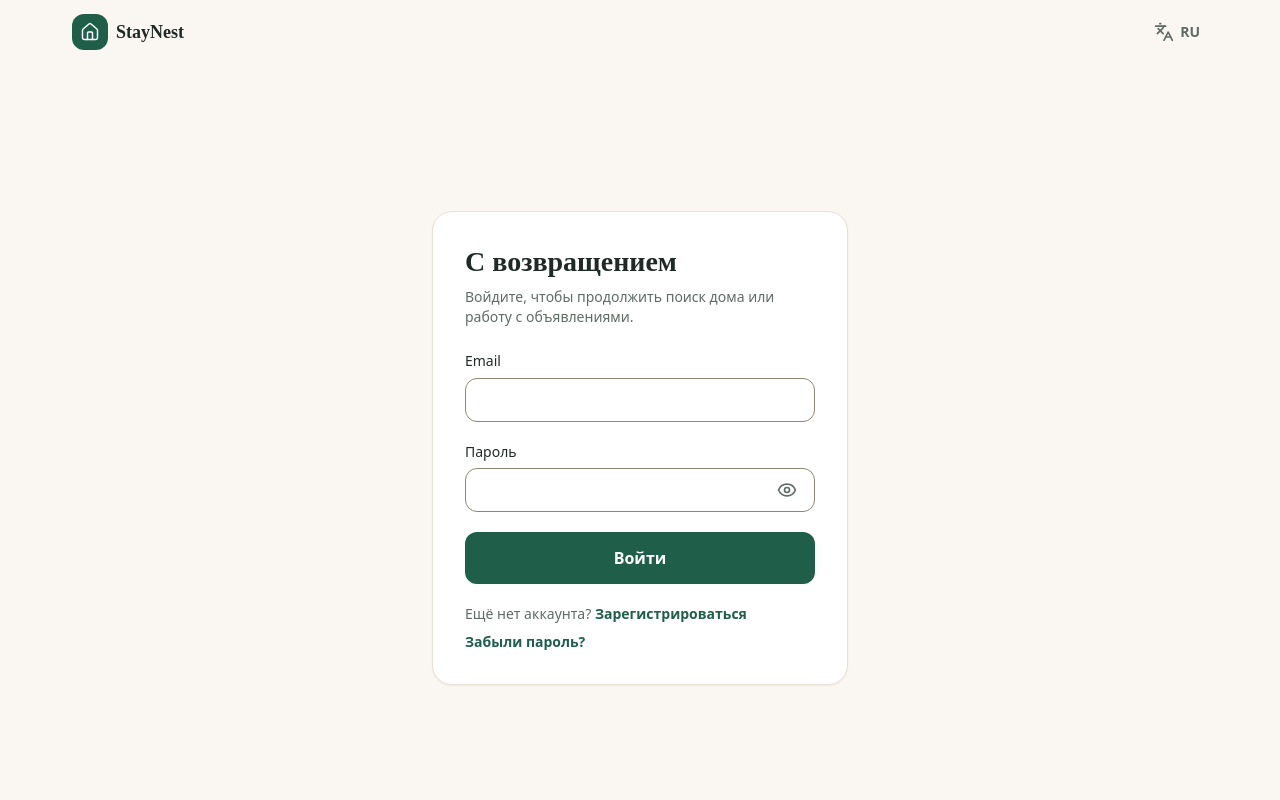
App › выполняет вход и возвращает на главную
Type "anna@example.com" into the field labelled "Email" at (640, 400), box left=465, top=378, right=815, bottom=422
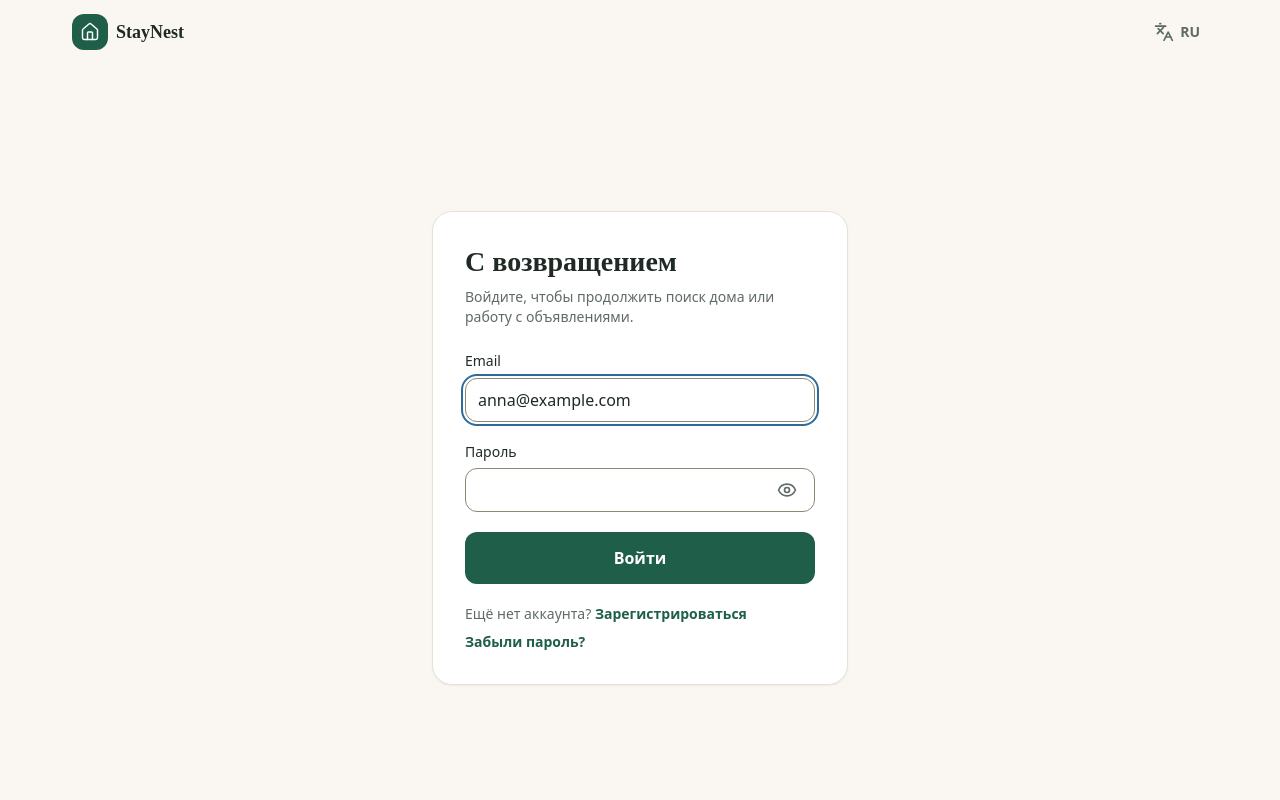
Type "Forest-Lake-2026" into the password field labelled "Пароль" at (640, 490), box left=465, top=468, right=815, bottom=512
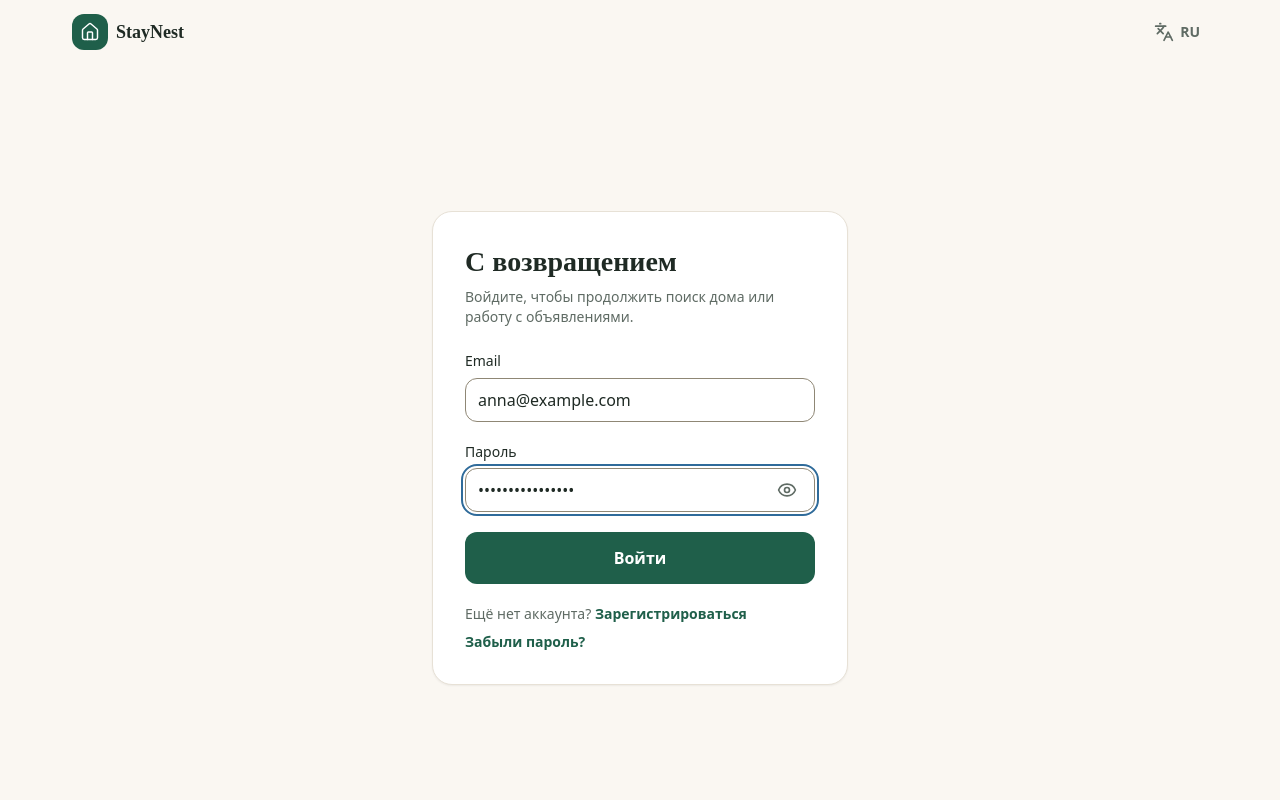
Click the button "Войти" at (640, 558), box left=465, top=532, right=815, bottom=584
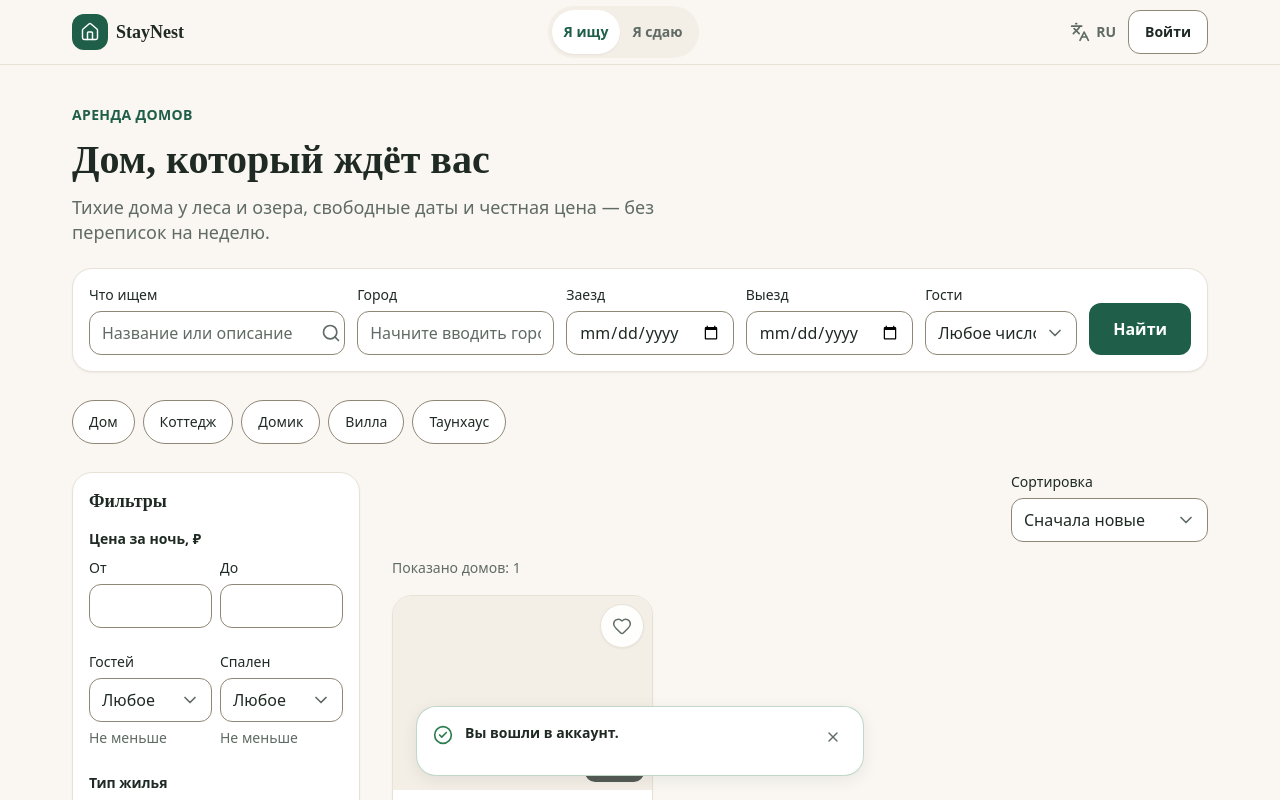
Now the heading "Дом, который ждёт вас" is shown, box left=72, top=137, right=490, bottom=182
